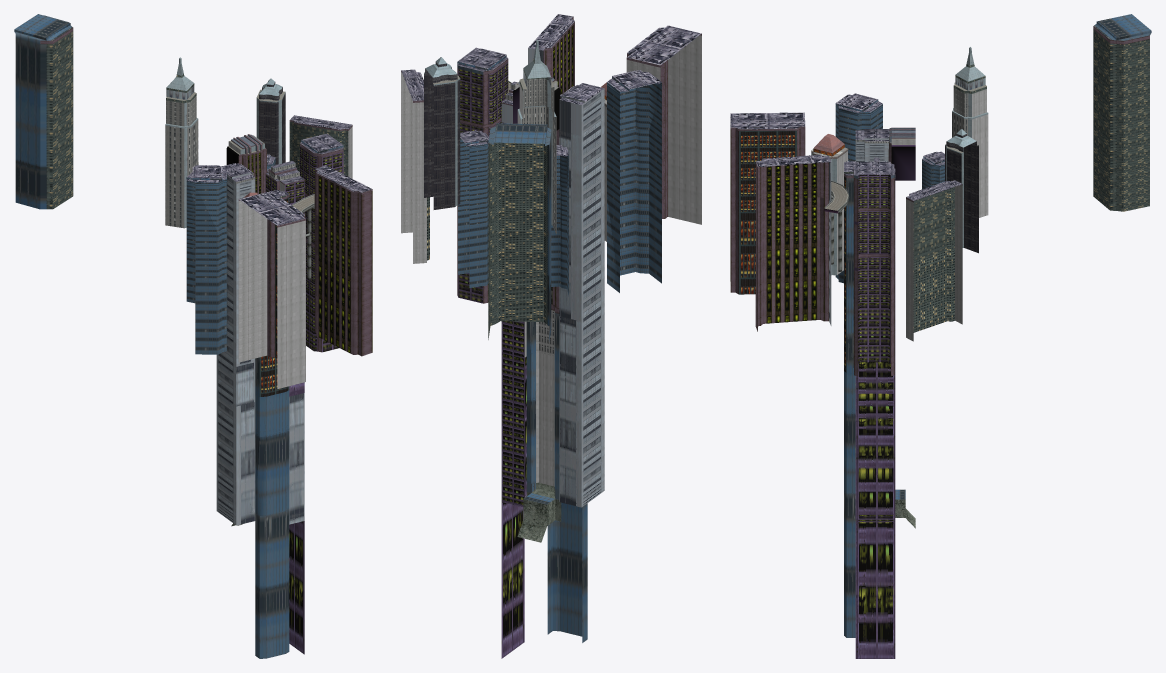
Rendered from STG0100_O_01.fbx.
The picture shows the model from 3 angles, left to right: view 1: azimuth 30°, elevation 25°; view 2: azimuth 150°, elevation 25°; view 3: azimuth 270°, elevation 25°; orthographic projection. The views are drawn at different scales.
Parts seen in each view (by area): view 1: STG0100_O_01_default; view 2: STG0100_O_01_default; view 3: STG0100_O_01_default.
Boxes of the visible parts, x1,y1,x2,y2 form: STG0100_O_01_default: (14, 14, 372, 658); STG0100_O_01_default: (401, 14, 701, 658); STG0100_O_01_default: (730, 14, 1151, 658).
Size of the model in its own units: 3057 by 7215 by 4757.
